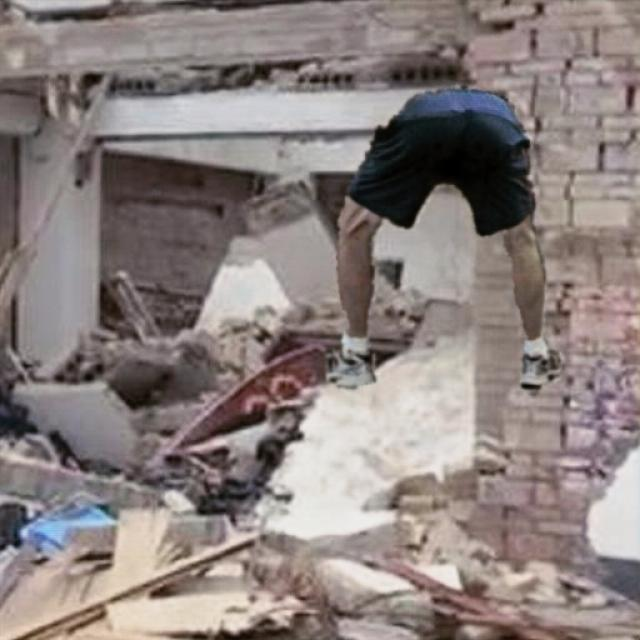Person in Rubble: (327, 86, 562, 390)
